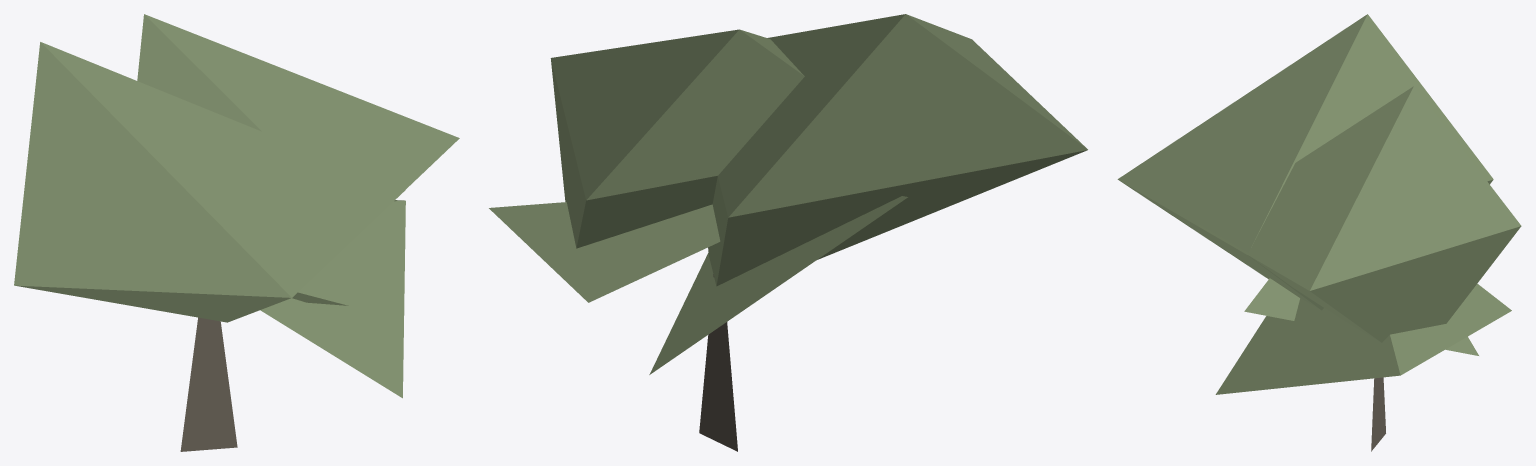
The model's file is bush_b_LOD2.fbx.
3 views of the same model, side by side, from view 1: azimuth 30°, elevation 25°; view 2: azimuth 150°, elevation 25°; view 3: azimuth 270°, elevation 25° (orthographic). The views are drawn at different scales.
Visible parts, largest first — view 1: bush_b_LOD2; view 2: bush_b_LOD2; view 3: bush_b_LOD2.
Part boxes in pixels (left/top/right/bottom): bush_b_LOD2: left=14, top=14, right=459, bottom=451; bush_b_LOD2: left=489, top=14, right=1087, bottom=451; bush_b_LOD2: left=1117, top=14, right=1521, bottom=451.
Size of the model in its own units: 96.68 by 86.23 by 87.51.
